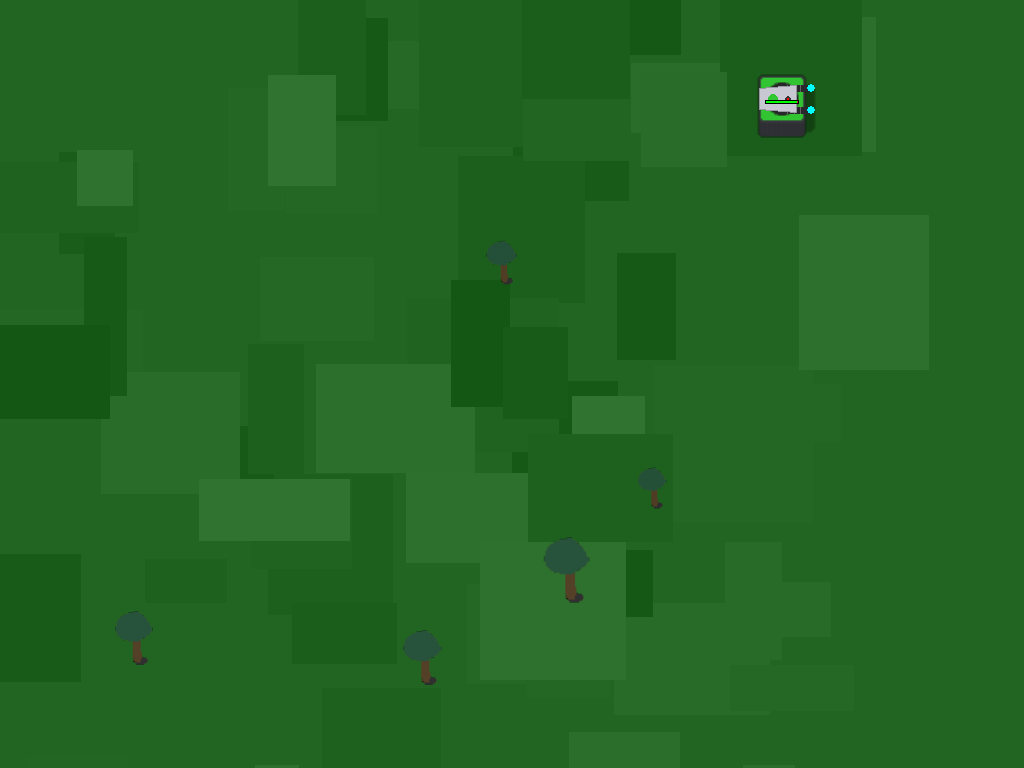AntiAirTurret: (747, 64, 804, 134)
